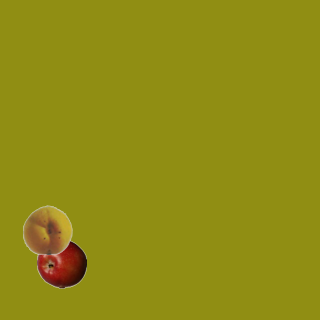Apple Braeburn: (36, 238, 86, 288)
Peach 2: (22, 204, 72, 254)
